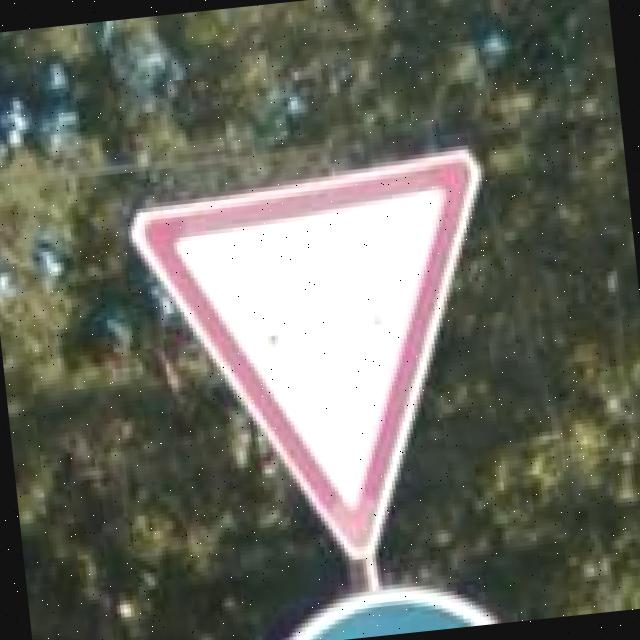Ustap pierwszenstwa: (123, 143, 524, 588)
